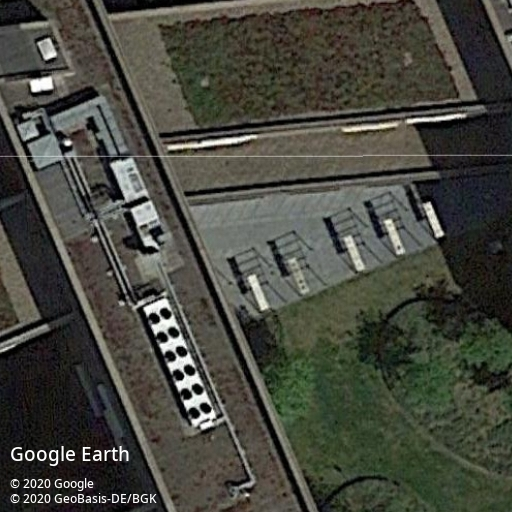Chiller: (142, 297, 217, 431)
